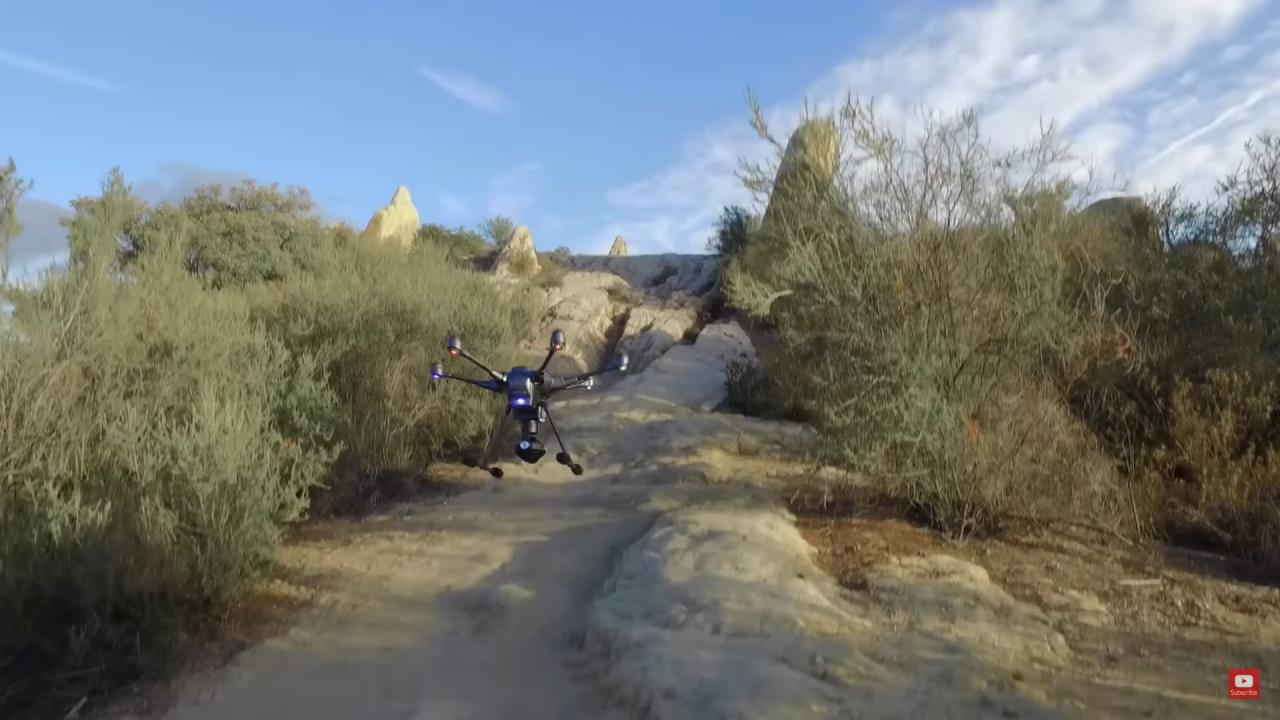Drone: (416, 312, 641, 488)
